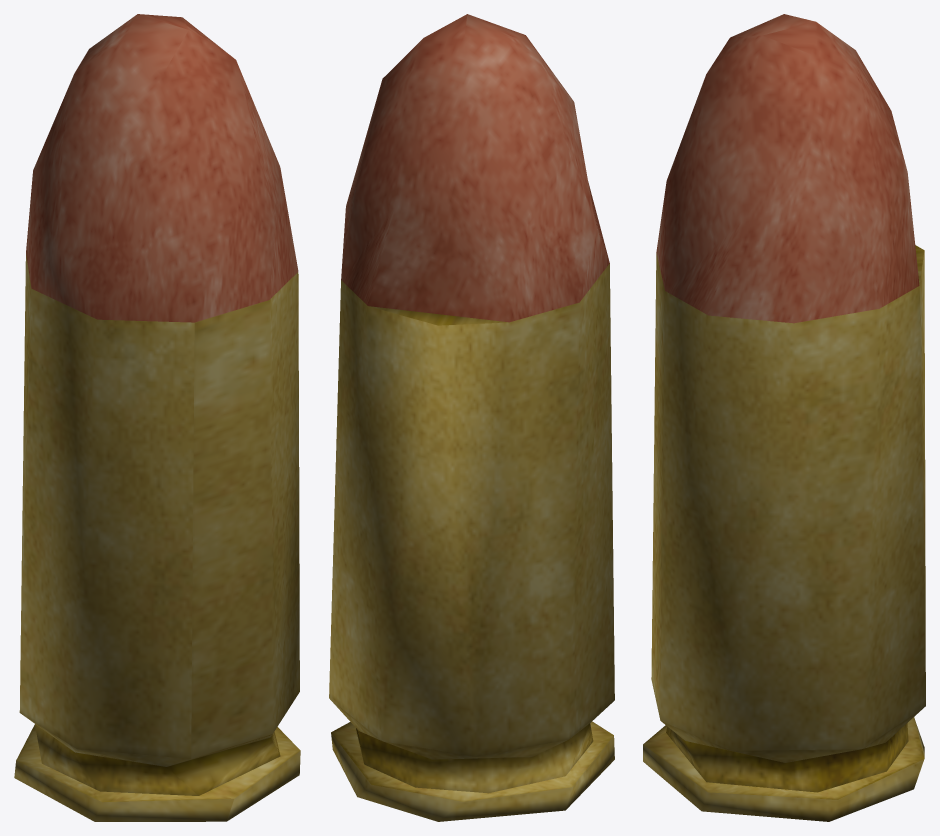
File: Rounds9mm.fbx
The picture shows the model from 3 angles, left to right: view 1: azimuth 30°, elevation 25°; view 2: azimuth 150°, elevation 25°; view 3: azimuth 270°, elevation 25°; orthographic projection.
Parts seen in each view (by area): view 1: Rounds9mm; view 2: Rounds9mm; view 3: Rounds9mm.
Boxes of the visible parts, x1,y1,x2,y2 form: Rounds9mm: (14, 14, 300, 821); Rounds9mm: (329, 14, 614, 821); Rounds9mm: (643, 14, 925, 821).
Size of the model in its own units: 0.00761 by 0.0224 by 0.00778.
